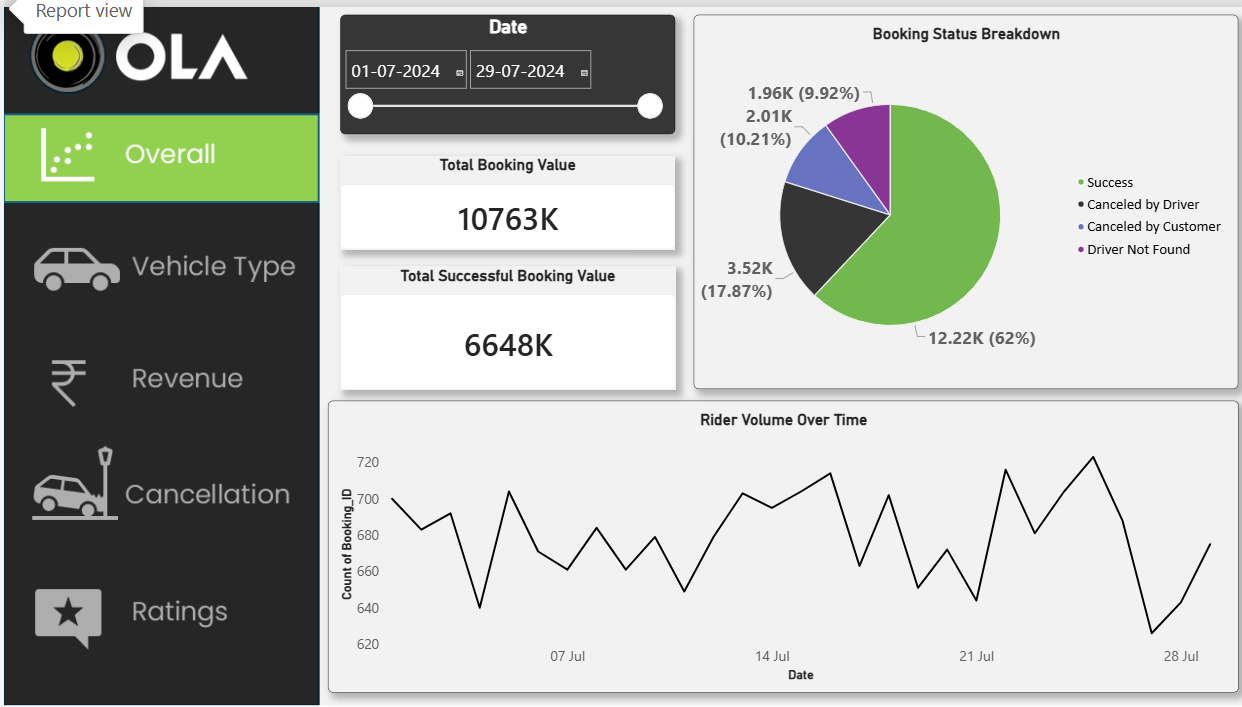

Layout of this report page (visuals, bound fields, positions):
{"tool":"powerbi","page":{"name":"Overall","canvas":[1920,1080],"ordinal":0},"visuals":[{"type":"actionButton","box":[0,329.9,486,133.5],"z":0},{"type":"actionButton","box":[10.1,679.9,486,133.5],"z":1000},{"type":"actionButton","box":[0,347.5,486,133.5],"z":2000},{"type":"actionButton","box":[10.1,873.9,486,133.5],"z":3000},{"type":"actionButton","box":[10.1,516.3,486,133.5],"z":4000},{"type":"actionButton","box":[0,161.2,486,133.5],"z":5000},{"type":"lineChart","title":"Rider Volume Over Time","fields":{"Category":["bookings (2).Date"],"Y":["CountNonNull(bookings (2).Booking_ID)"]},"box":[497.5,606.1,1402.1,449.3],"z":6000},{"type":"pieChart","title":"Booking Status Breakdown","fields":{"Category":["bookings (2).Booking_Status"],"Y":["CountNonNull(bookings (2).Booking_ID)"]},"box":[1061.4,12.1,838.2,575.9],"z":7000},{"type":"slicer","title":"Date","fields":{"Values":["bookings (2).Date"]},"box":[518.8,12.6,515.6,183.9],"z":8000},{"type":"cardVisual","title":"Total Booking Value","fields":{"Data":["Sum(bookings (2).Booking_Value)"]},"box":[518.6,229.2,515.6,144.7],"z":9000},{"type":"cardVisual","title":"Total Successful Booking Value","fields":{"Data":["Sum(bookings (2).Booking_Value)"]},"box":[518.8,397.9,516.3,191.4],"z":10000}]}

Visuals, with their boxes on the page's 1920x1080 design canvas (x1, y1, x2, y2). These are canvas units, not pixel positions in the 1242x707 screenshot, which may show the page scaled, cropped or inside an application window:
actionButton: box=[0, 330, 486, 463]
actionButton: box=[10, 680, 496, 813]
actionButton: box=[0, 348, 486, 481]
actionButton: box=[10, 874, 496, 1007]
actionButton: box=[10, 516, 496, 650]
actionButton: box=[0, 161, 486, 295]
"Rider Volume Over Time" lineChart: box=[498, 606, 1900, 1055]
"Booking Status Breakdown" pieChart: box=[1061, 12, 1900, 588]
"Date" slicer: box=[519, 13, 1034, 196]
"Total Booking Value" cardVisual: box=[519, 229, 1034, 374]
"Total Successful Booking Value" cardVisual: box=[519, 398, 1035, 589]
